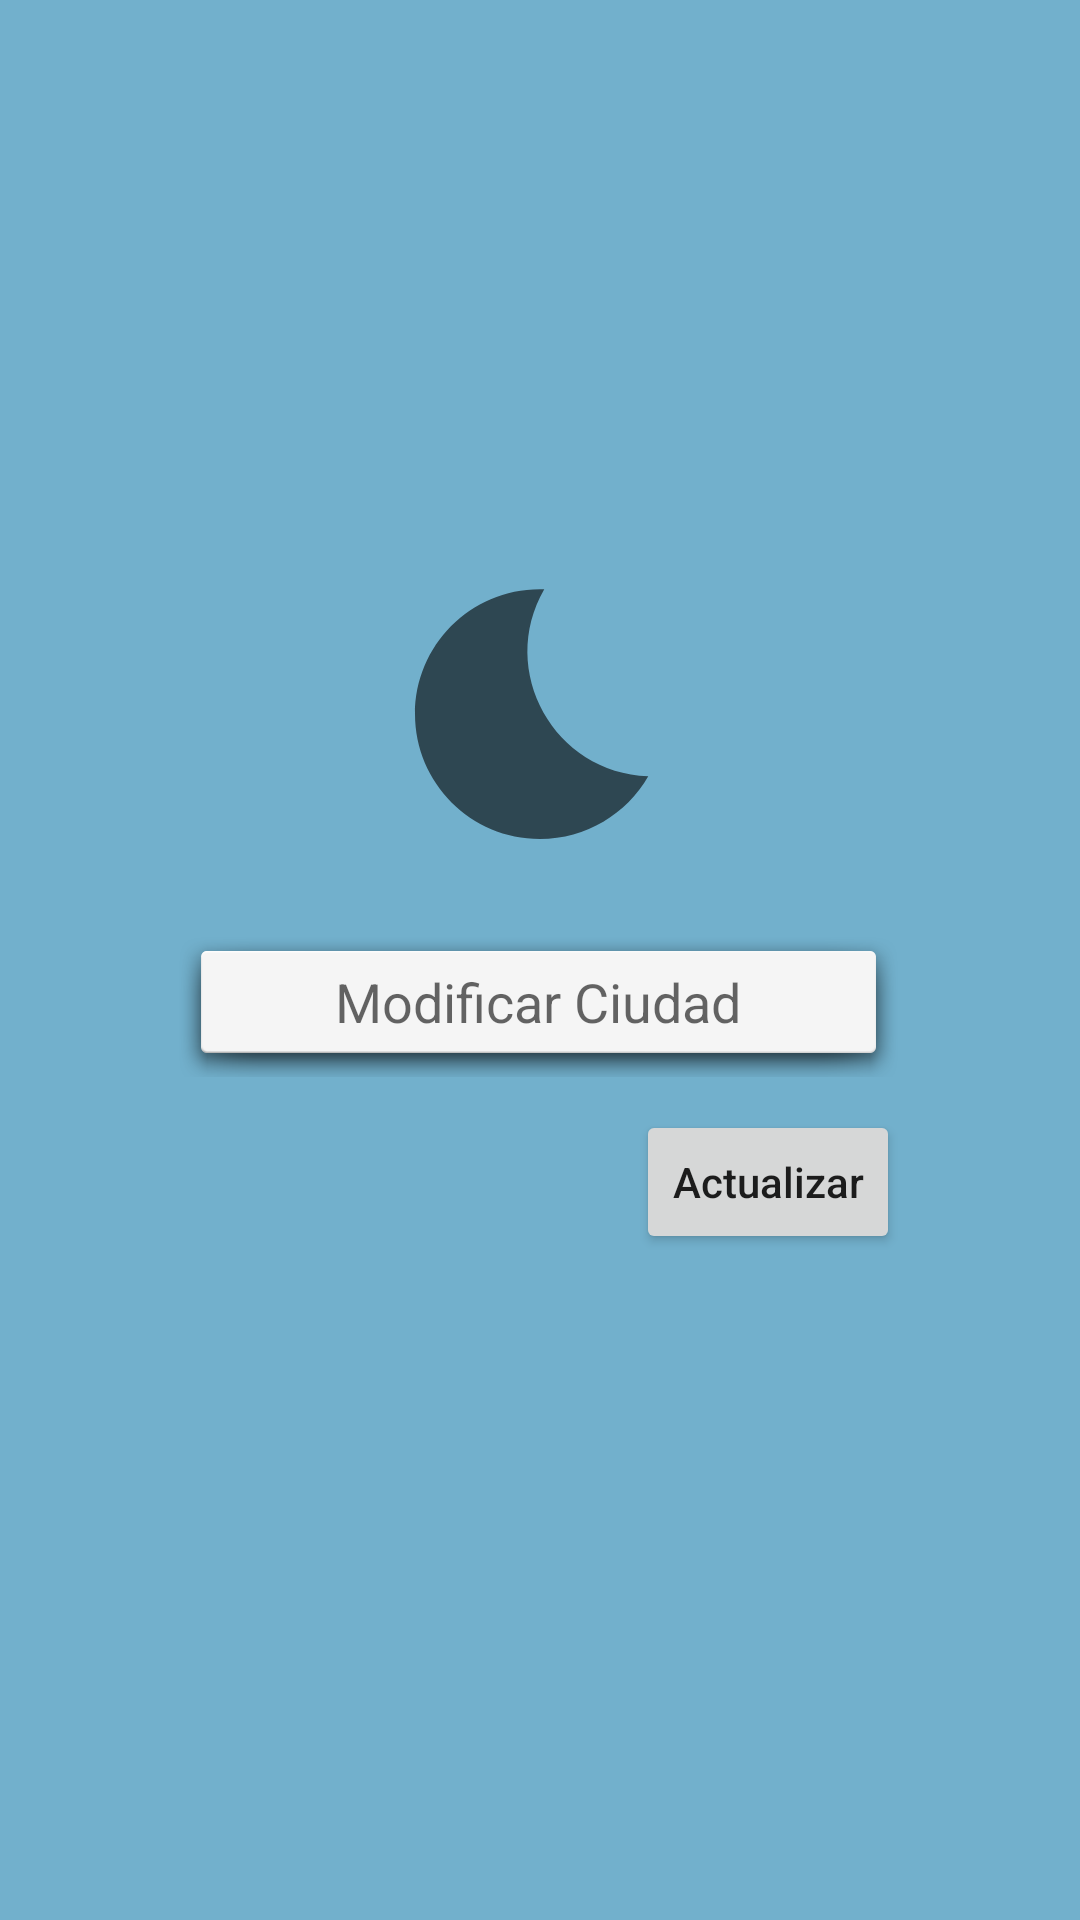

Named icons in this screenshot (1080*1920) and their bounding boxes, (x1, y1, x2, y2):
bedtime: (415, 589, 648, 839)
